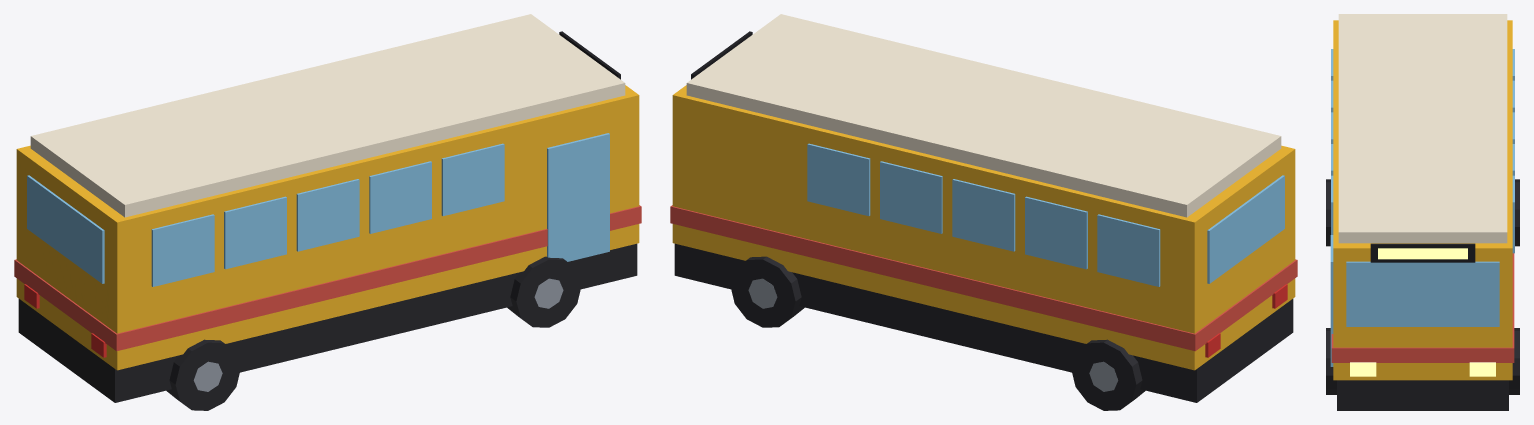
Rendered from bus.glb.
The picture shows the model from 3 angles, left to right: view 1: azimuth 30°, elevation 25°; view 2: azimuth 150°, elevation 25°; view 3: azimuth 270°, elevation 25°; orthographic projection. The views are drawn at different scales.
Parts seen in each view (by area): view 1: bus; view 2: bus; view 3: bus.
Part boxes in pixels (bbox=[...]): bus: bbox=[14, 14, 641, 410]; bus: bbox=[670, 14, 1297, 410]; bus: bbox=[1326, 14, 1519, 410].
Size of the model in its own units: 7.28 by 2.89 by 2.59.
